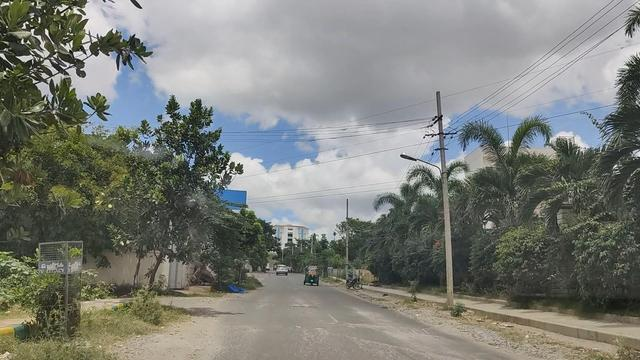RoadDamages: (345, 304, 432, 337)
